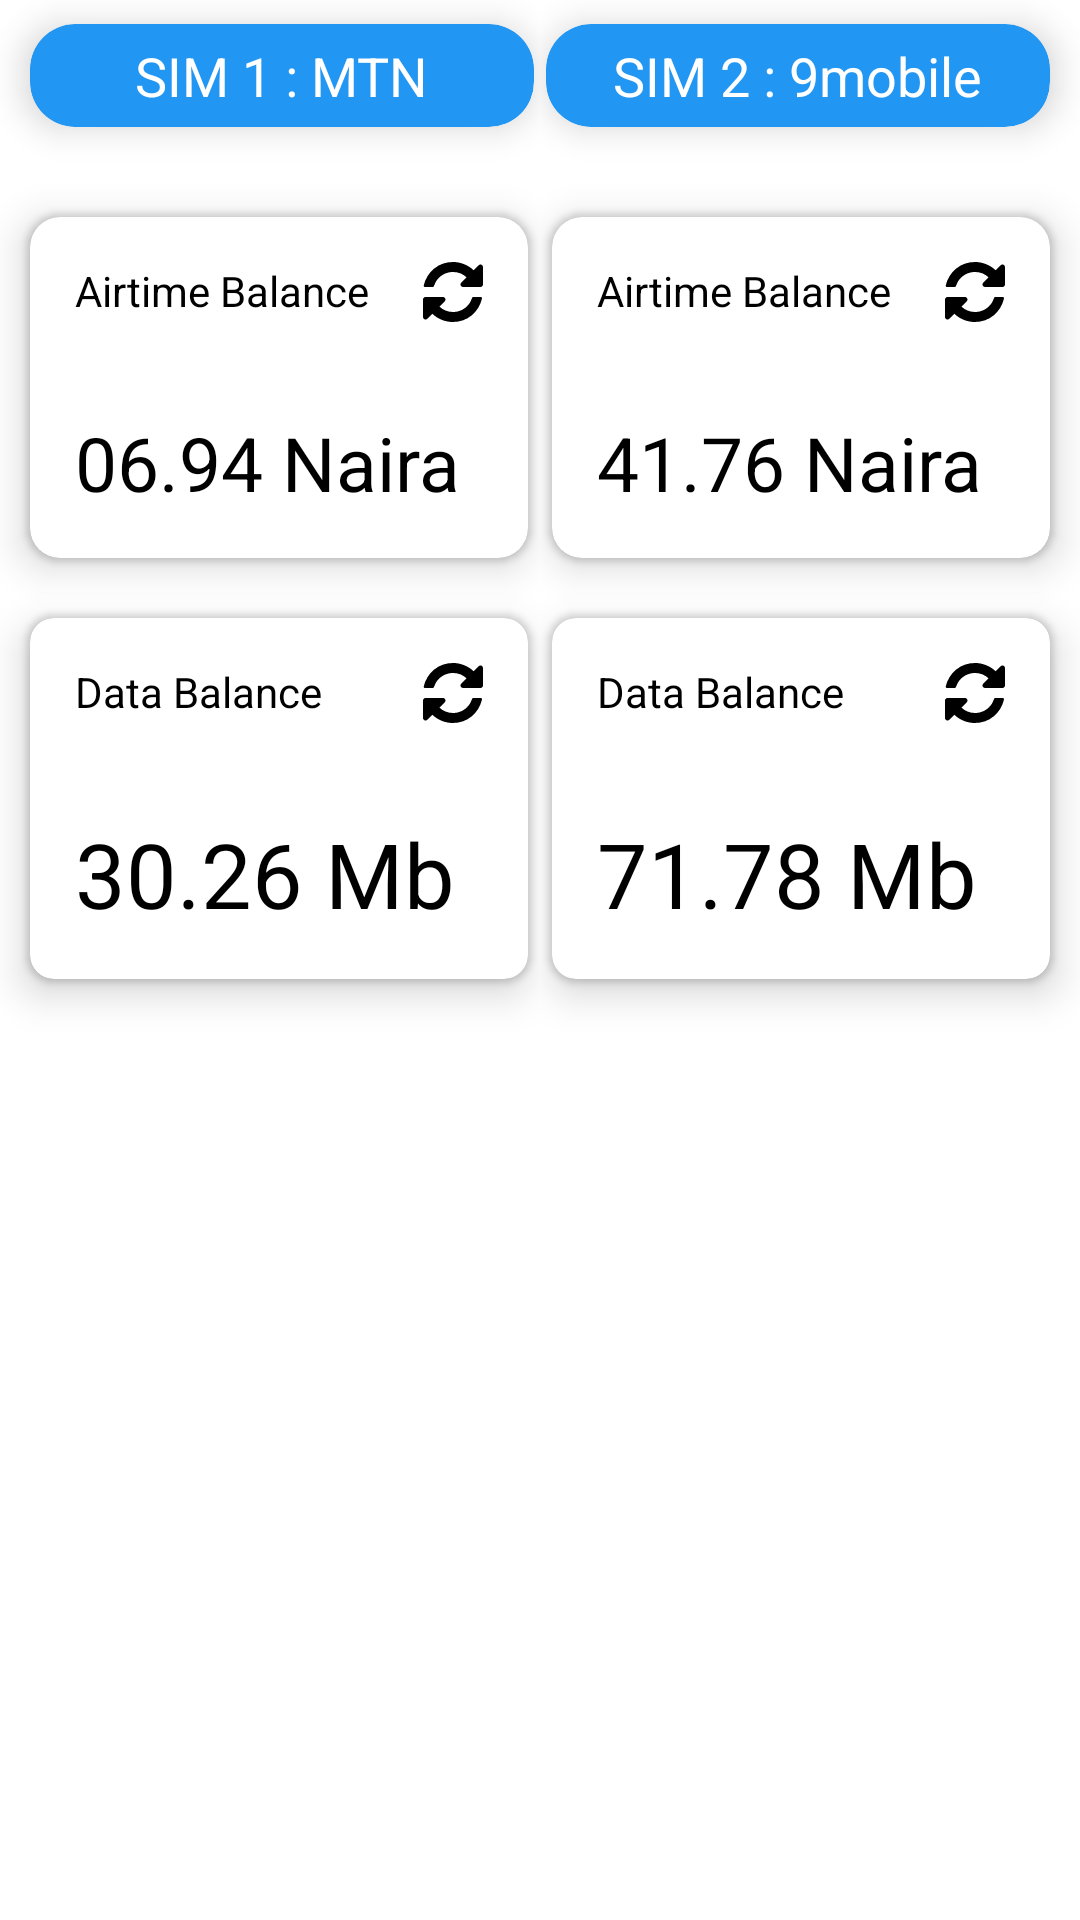

Icons on this 1080w x 1920h Android screen, each with its box as BBox(x1, y1, x2, y2):
refresh page option: BBox(423, 262, 483, 322), BBox(945, 262, 1005, 322), BBox(423, 663, 483, 723), BBox(945, 663, 1005, 723)
